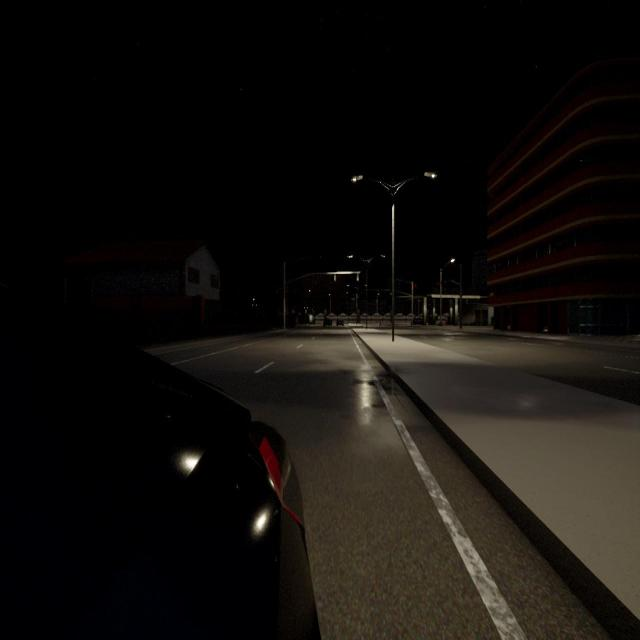Vehicle: (0, 336, 315, 638), (324, 318, 332, 326), (336, 318, 344, 326), (413, 318, 422, 324)
traffic_light: (356, 273, 359, 281), (334, 274, 336, 281), (378, 293, 380, 296), (437, 283, 439, 285), (445, 280, 446, 283), (390, 293, 391, 295)
